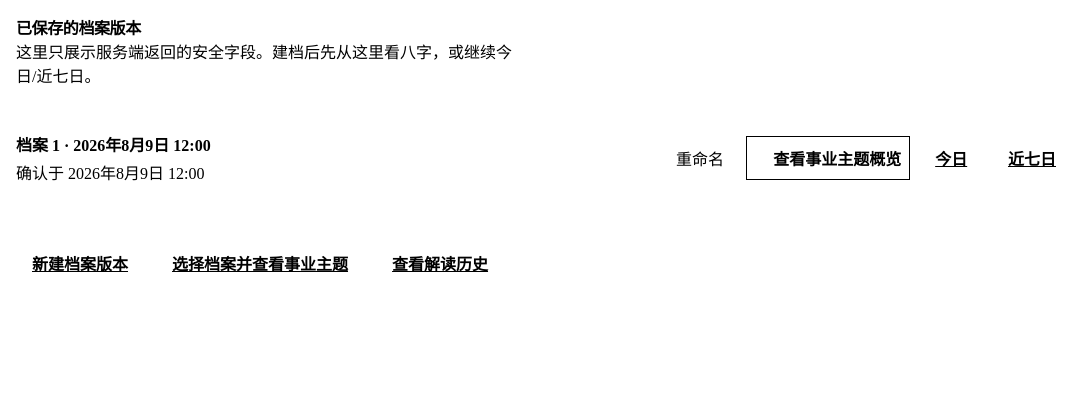
Scenario: ProfileArchive › shows a one-shot button error while preserving the retryable Status message
This screenshot has width=1073, height=401.
Click the button "查看事业主题概览" at (828, 158), box [746,136,910,180]
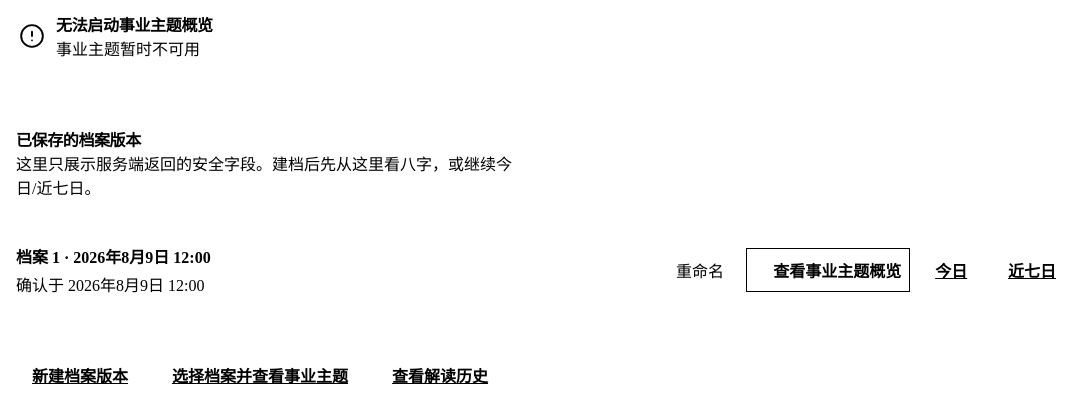
Expected: the button named "启动失败" is enabled, [746,248,910,292]
Now the message "无法启动事业主题概览" shows "事业主题暂时不可用", box [56,41,200,58]
